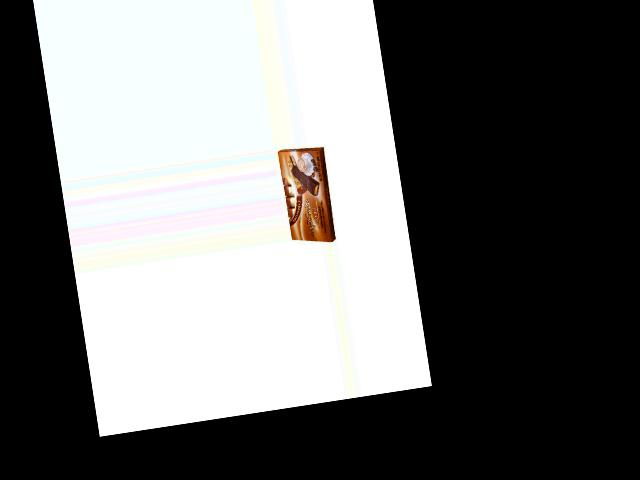chocolate: (276, 143, 338, 250)
